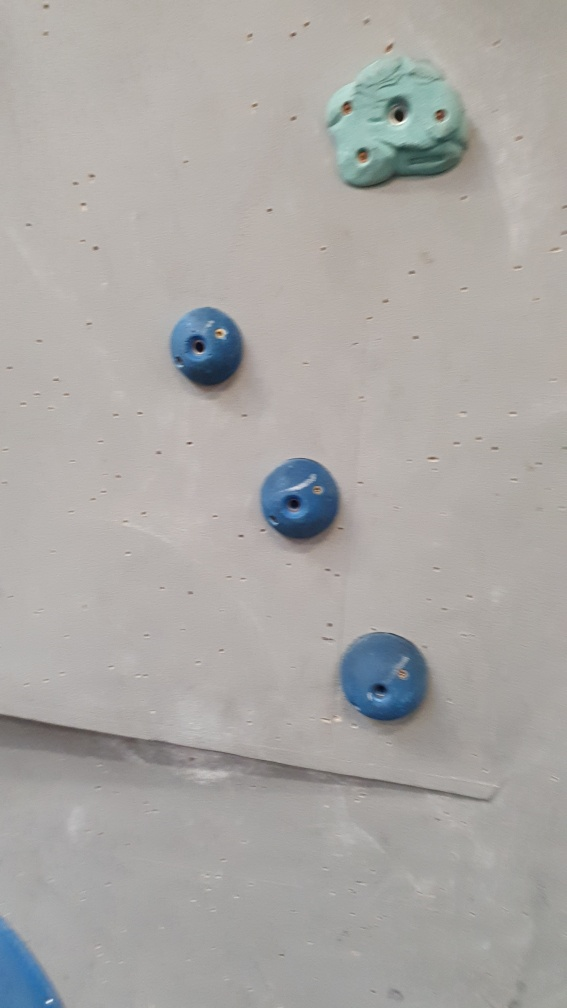Sloper: (334, 622, 435, 728), (166, 299, 248, 396), (259, 456, 348, 543)
